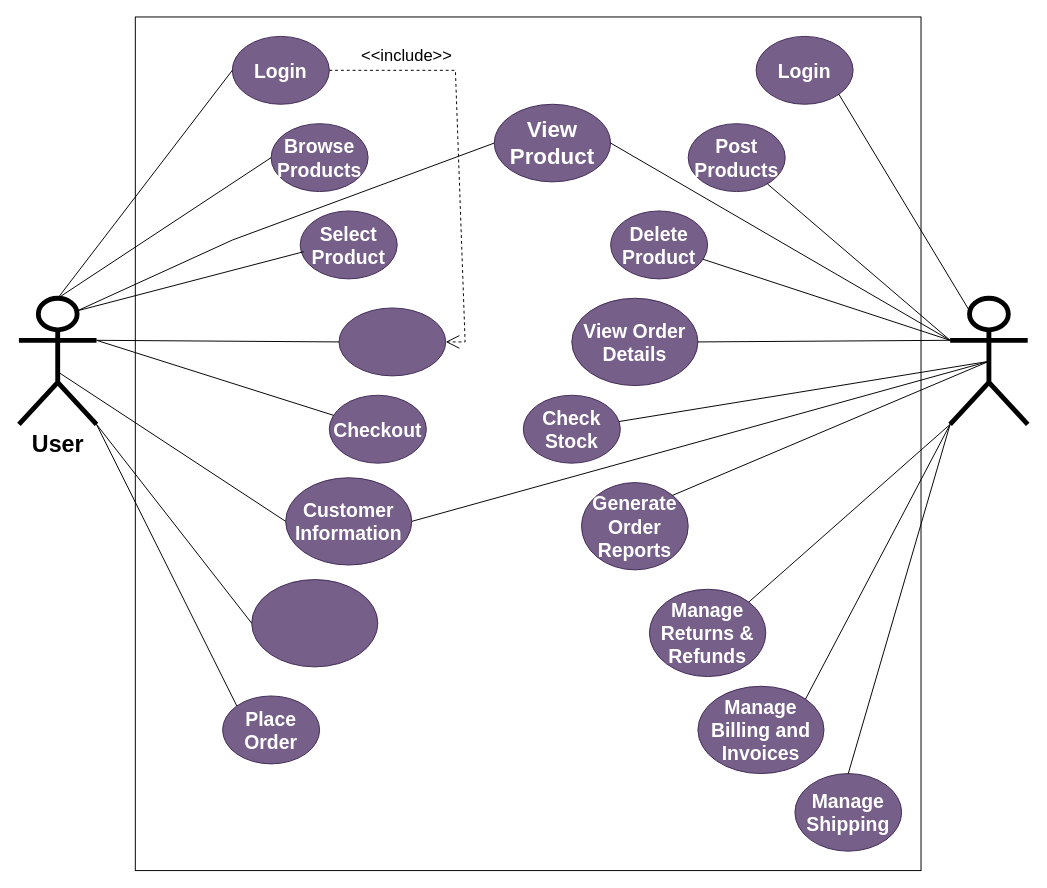
The diagram is 1047 pixels wide and 888 high, and some of its shapes have lost their labels. The centre of each missing label's shape, as x and y in pixels:
Add to Cart: point 392,341
Admin: point 988,360
Payment Transaction: point 314,623
